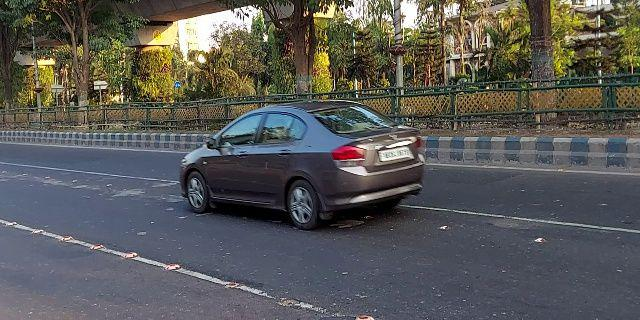Car: (176, 102, 426, 234)
